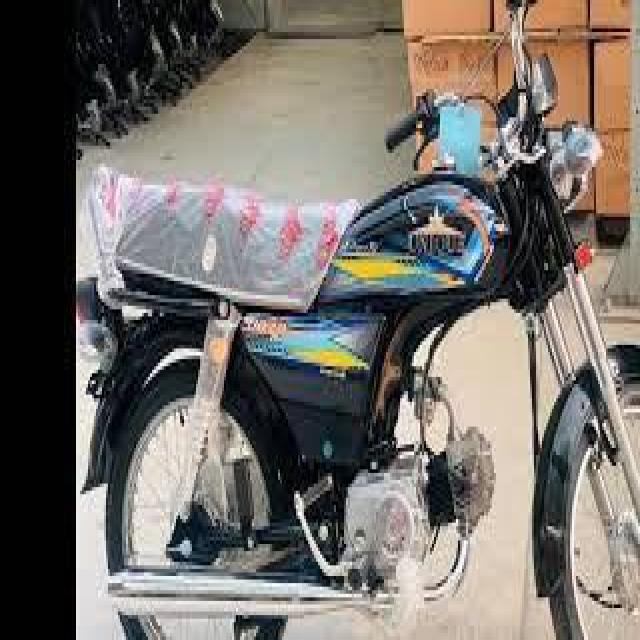motorcycle: (78, 7, 640, 629)
